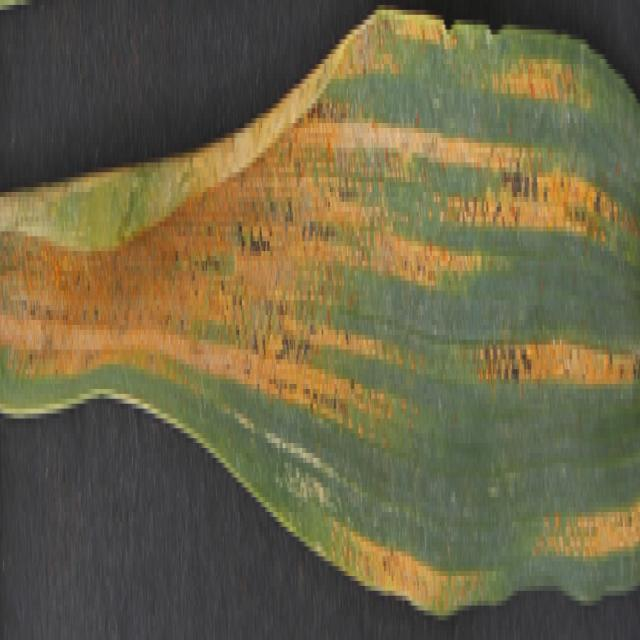leaf rust: (0, 10, 640, 596)
